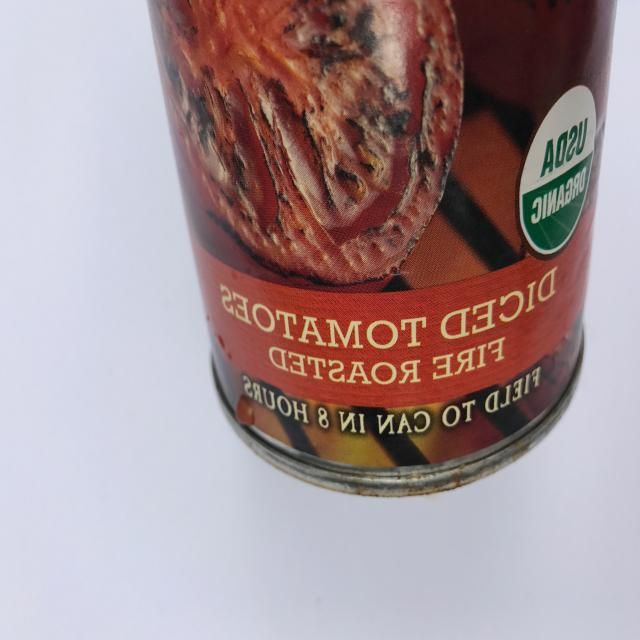metal: (144, 0, 619, 497)
